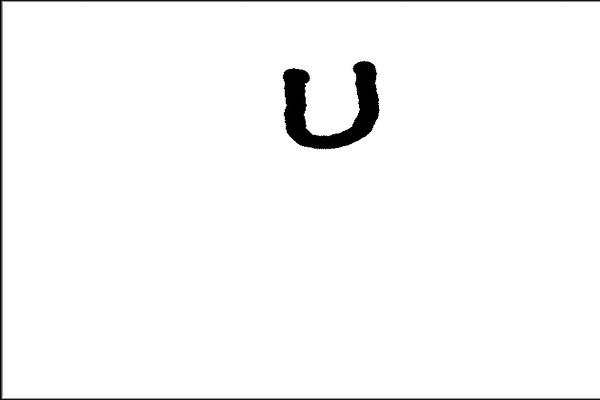U: (271, 50, 385, 154)
